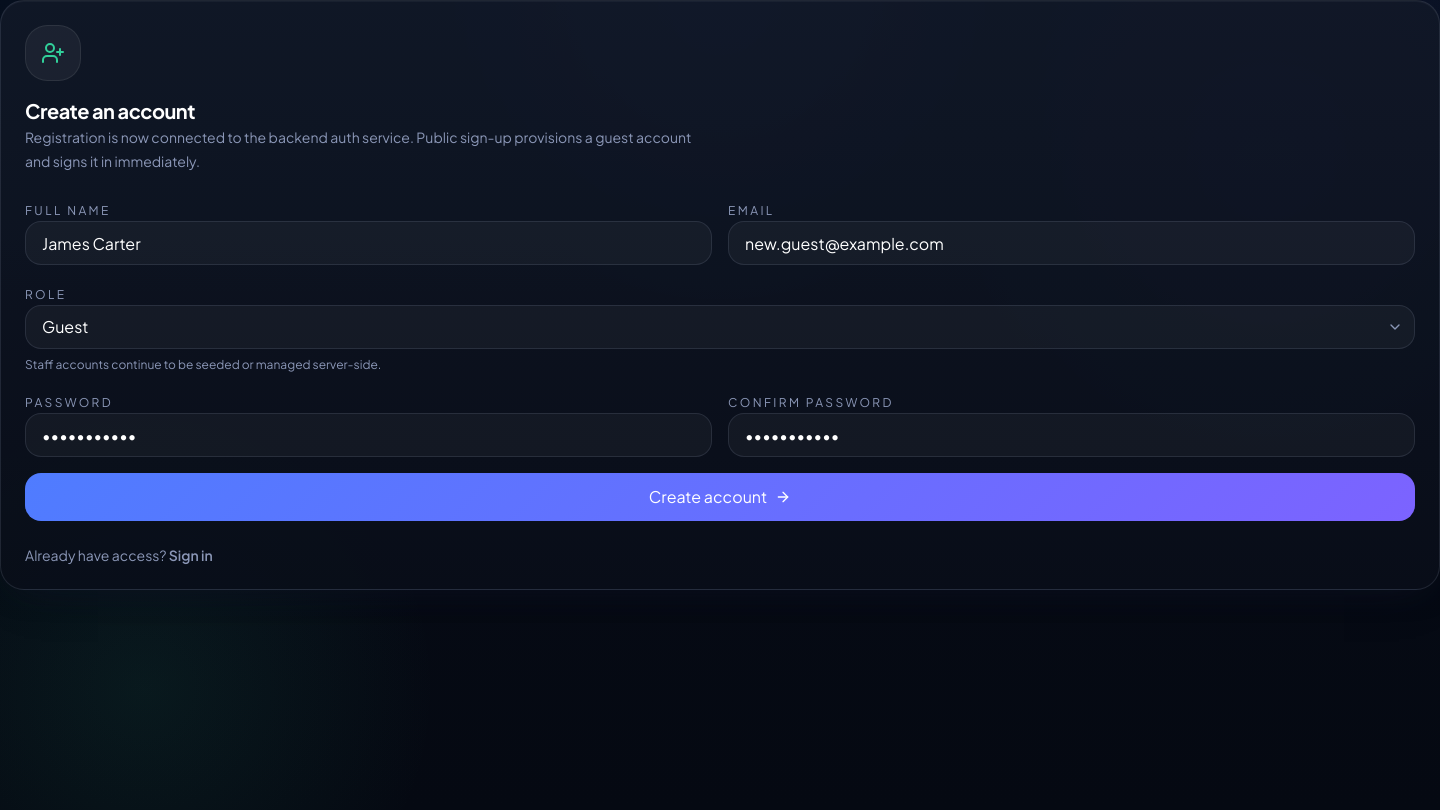
Test: frontend components › register form validates password confirmation
Type "Different123!" into the 1st password field showing "Welcome123!" at [368, 435], box [25,413,712,457]
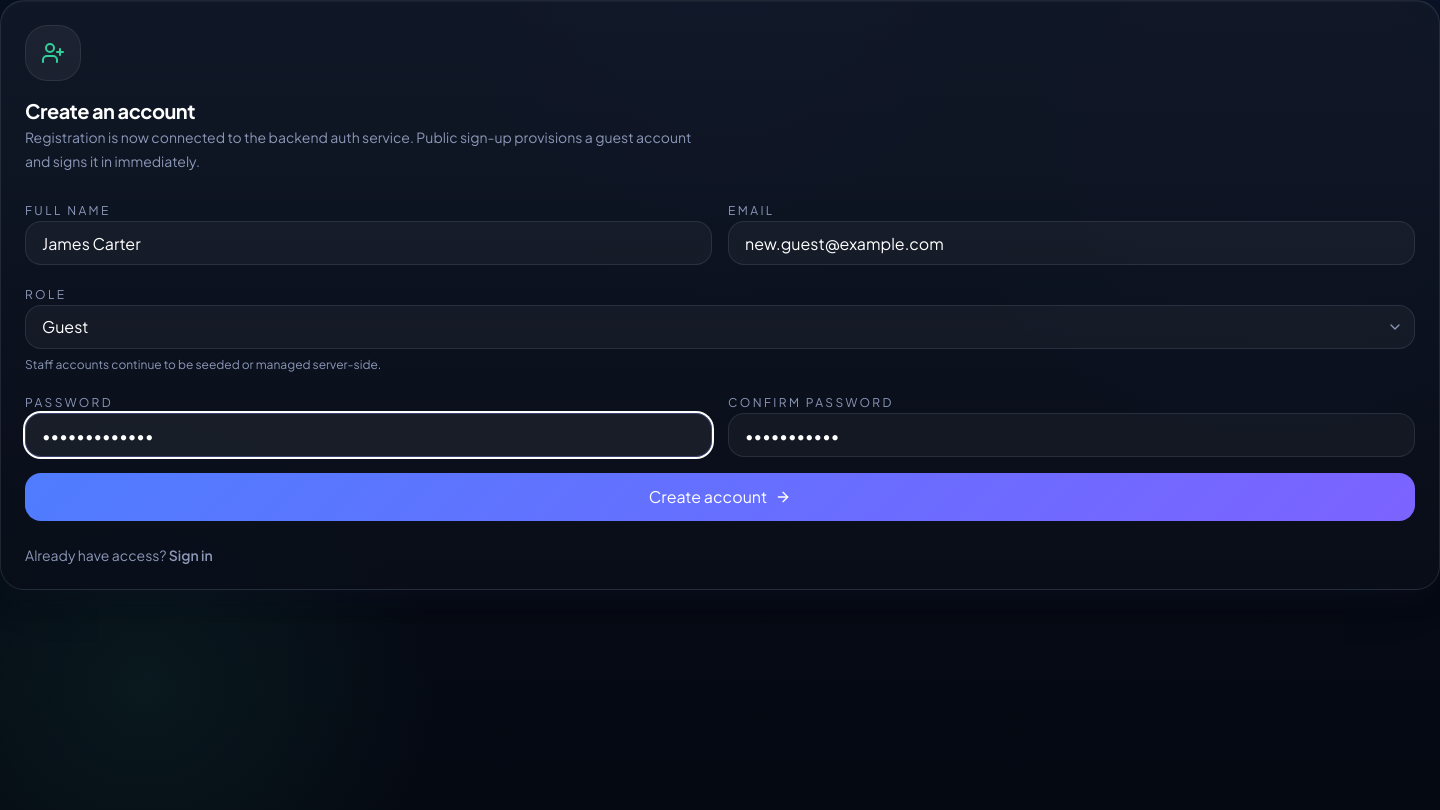
Click the button "Create account" at [720, 497], box [25,473,1415,521]
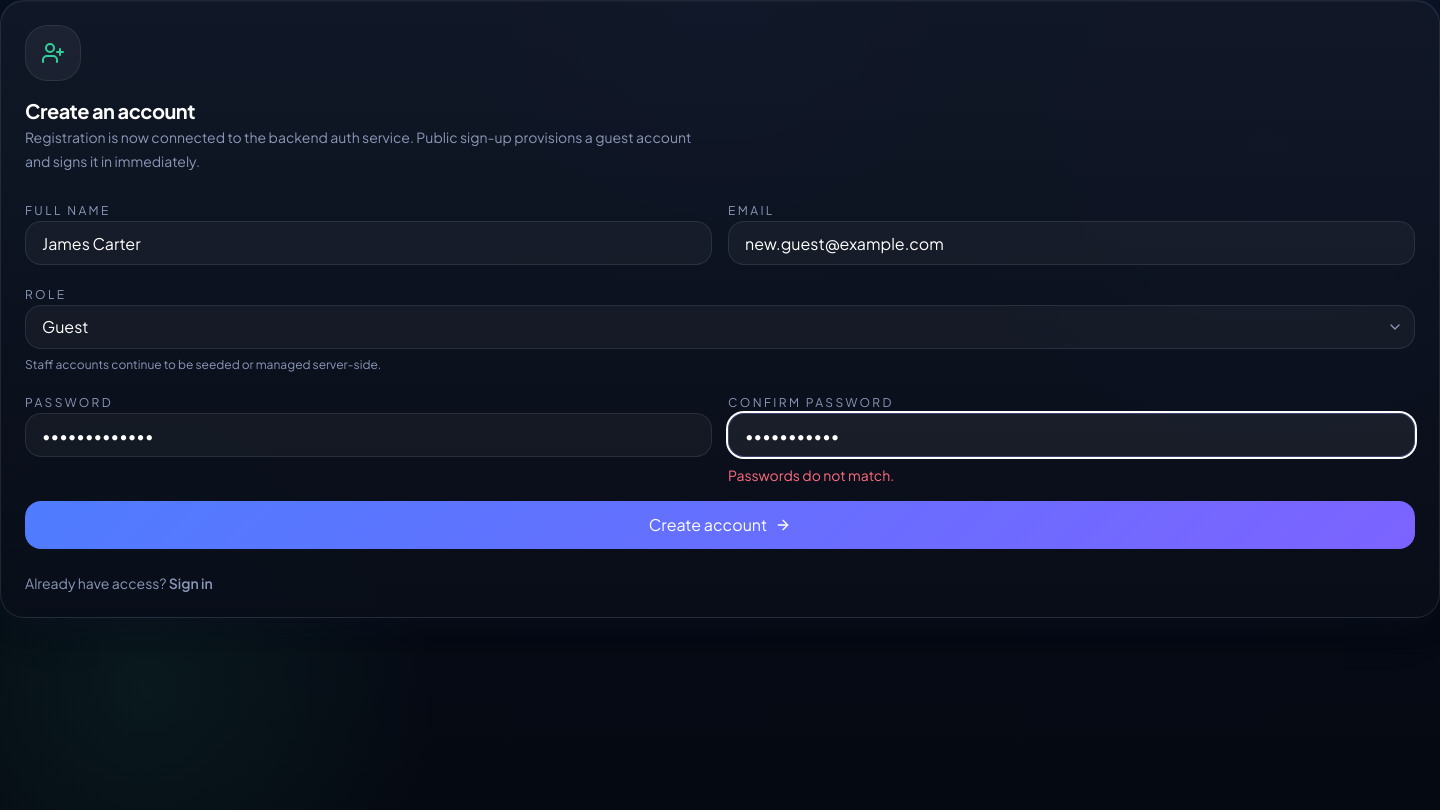
Check: the text "Passwords do not match." is shown, box [728,466,894,484]
